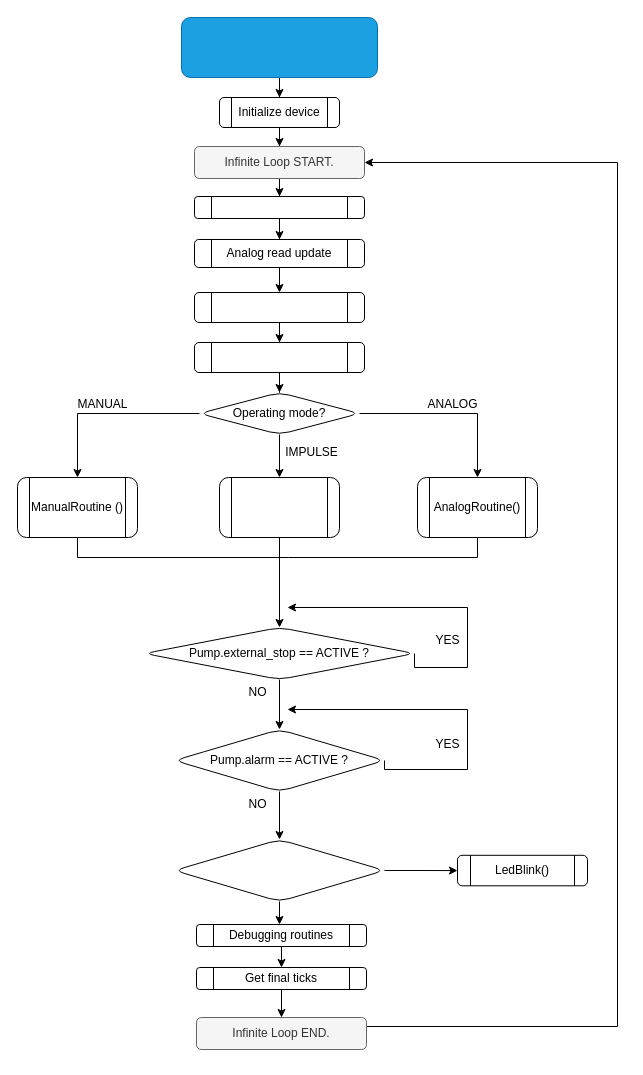
Image size: 643x1075. Some labels were removed from this diagram. Each missing label, with the box of its shape:
Get initial ticks: (194, 196, 364, 218)
ImpulseRoutine(): (218, 476, 340, 538)
MAIN CONTROL ROUTINE: (180, 16, 378, 78)
Pump.prealarm == ACTIVE ?: (174, 838, 384, 902)
UpdateOperatingMode(): (194, 342, 364, 372)
UpdatePumpStatus (): (194, 292, 364, 322)
